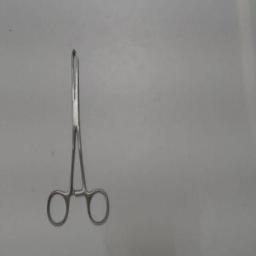Allis Tissue Forceps: (43, 40, 115, 232)
